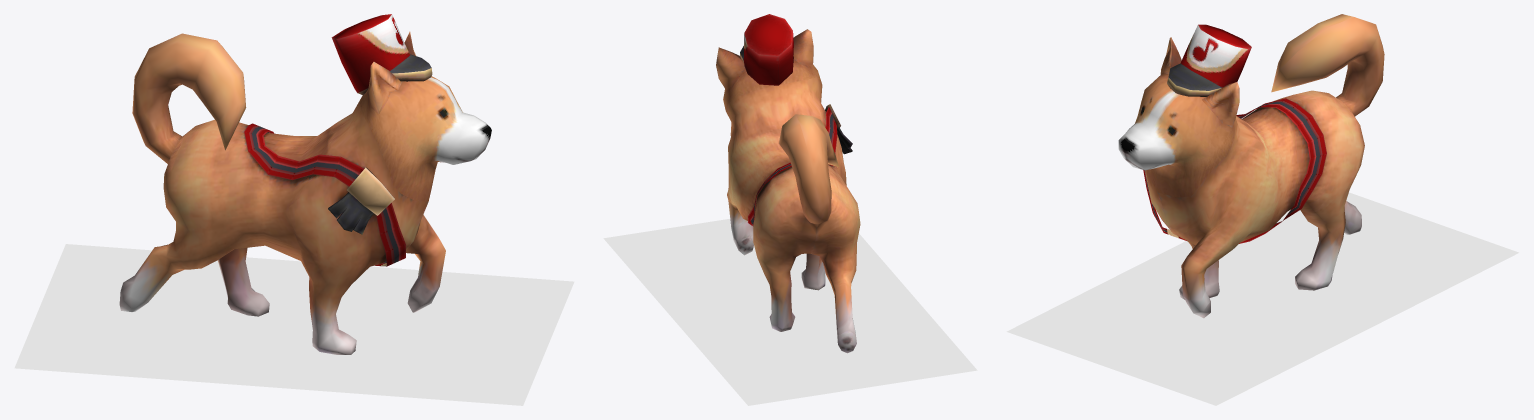
File: dog.glb
3 views of the same model, side by side, from view 1: azimuth 30°, elevation 25°; view 2: azimuth 150°, elevation 25°; view 3: azimuth 270°, elevation 25° (orthographic). The views are drawn at different scales.
Visible parts, largest first — view 1: Object_3, Object_4; view 2: Object_4, Object_3; view 3: Object_4, Object_3.
Boxes of the visible parts, left/top/right/bottom form: Object_3: left=119, top=14, right=491, bottom=354; Object_4: left=14, top=244, right=574, bottom=405; Object_4: left=603, top=219, right=977, bottom=405; Object_3: left=716, top=14, right=860, bottom=353; Object_4: left=1006, top=192, right=1518, bottom=405; Object_3: left=1118, top=14, right=1384, bottom=318.
Size of the model in its own units: 5.22 by 3.1 by 4.98.
Materials: 2 (2 with a texture image).
